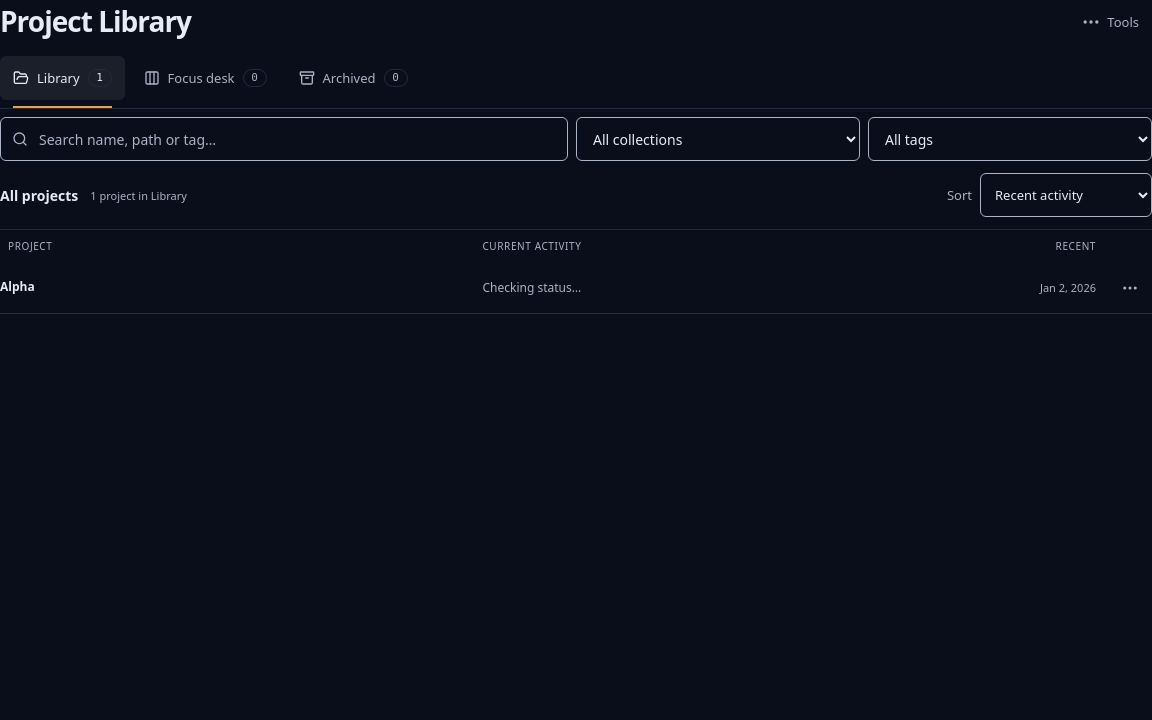
Contextual project authoring › creates and selects a collection beside an intact draft, with creation failures retryable
Click the button named "Details and organization for Alpha" at (1130, 288), box [1108,266,1151,310]
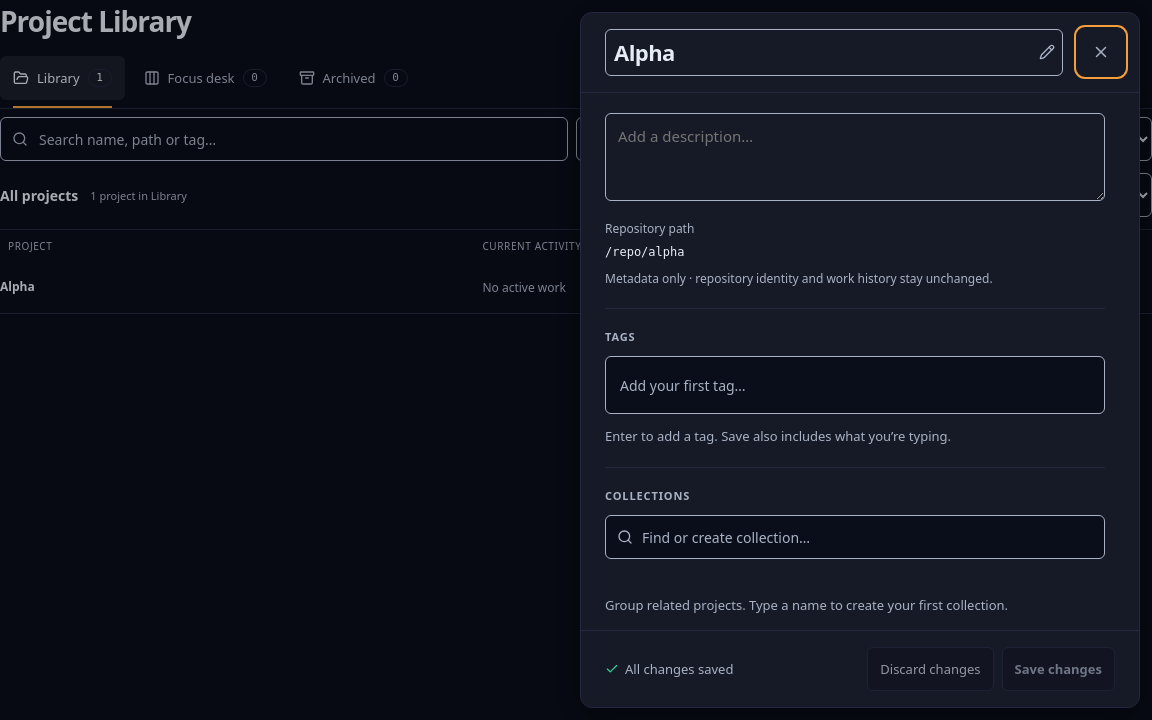
Type "Keep this draft" into the text box labelled "description" at (855, 157), box [605,113,1105,201]
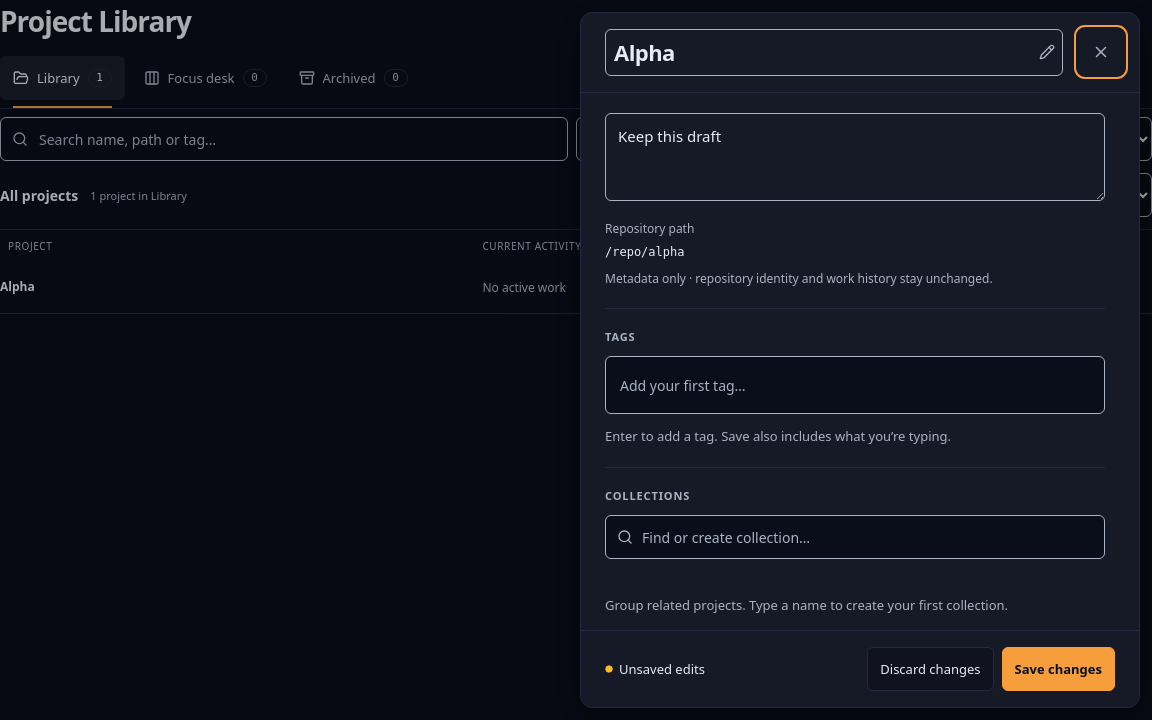
Type "Clients" into the search field labelled "Find or create collection" at (855, 537), box [605,515,1105,559]
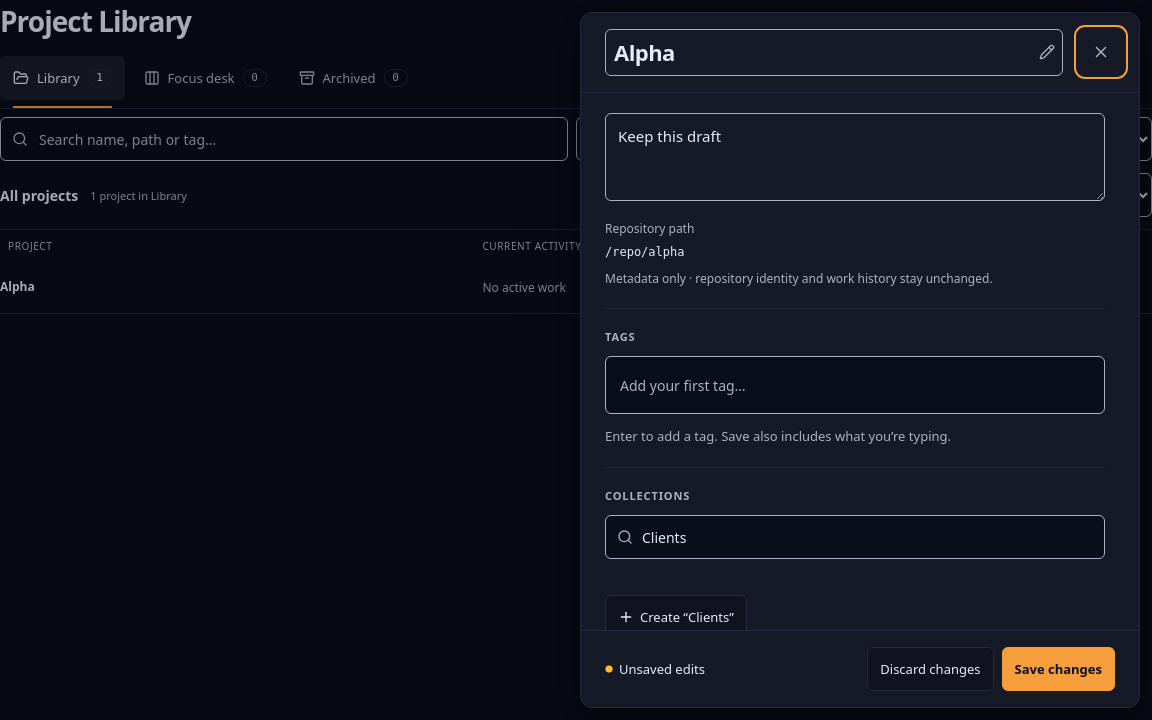
Click the button with aria-label "Create collection Clients" at (676, 617), box [605,595,747,639]
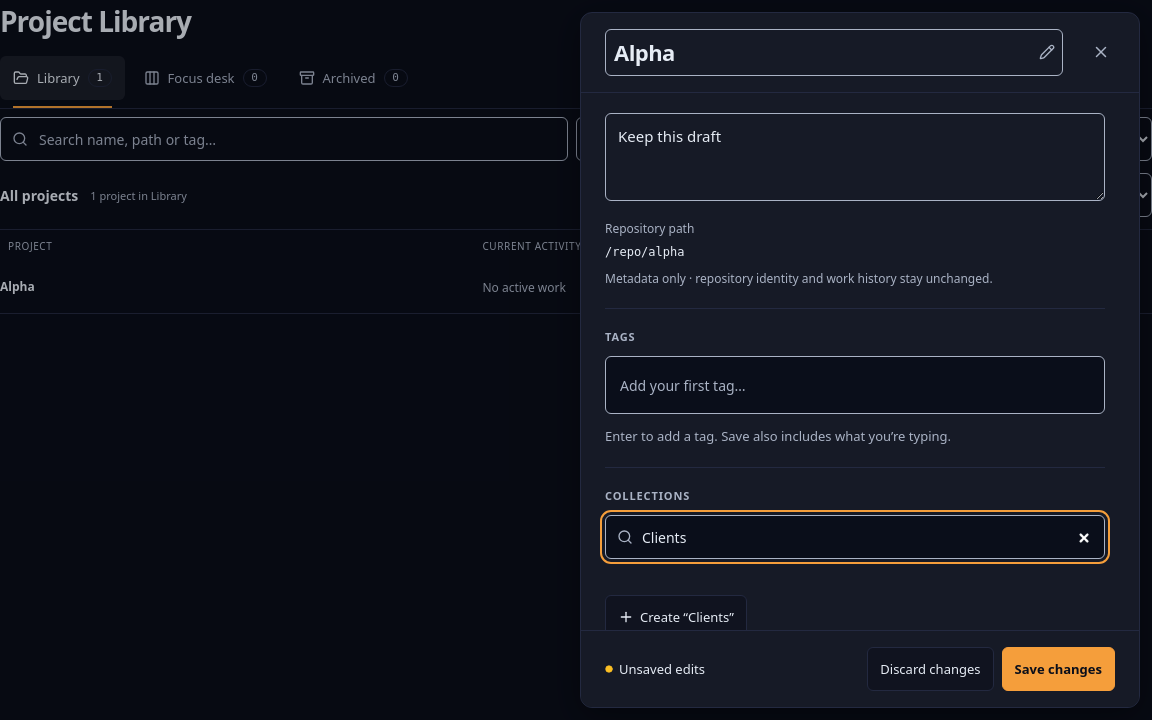
Click the button with aria-label "Create collection Clients" at (676, 617), box [605,595,747,639]
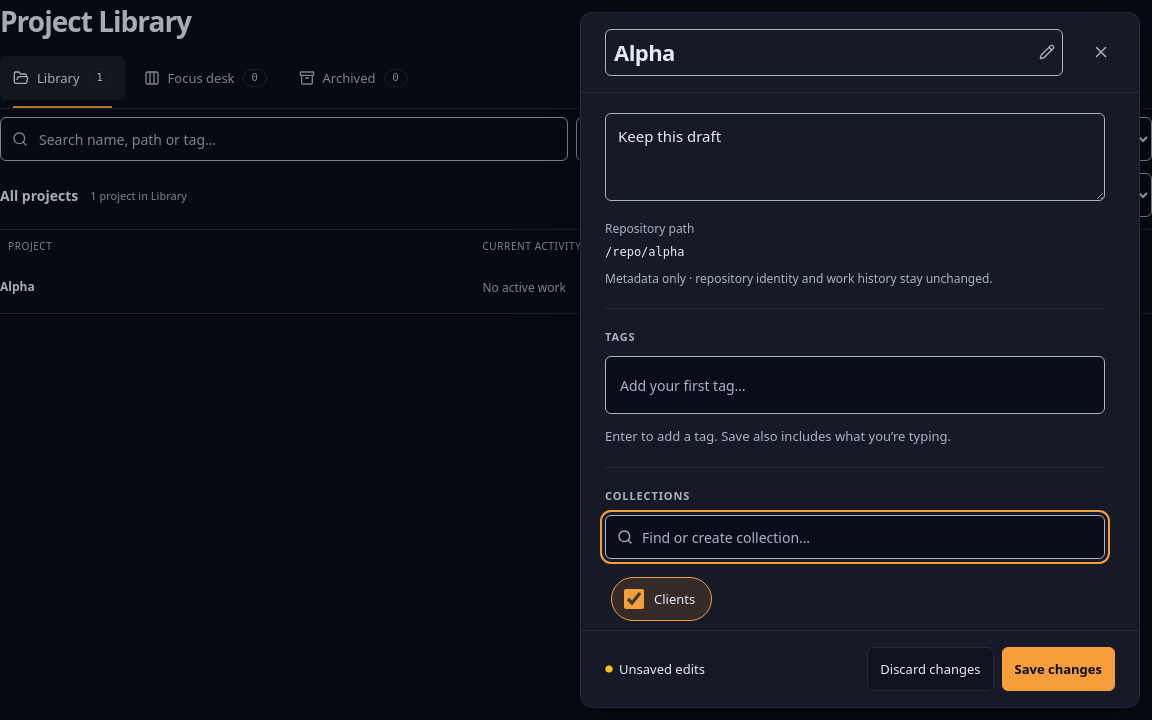
Expected: the checkbox labelled "Clients" is checked, [624,589,644,609]
Click the button "Save changes" at (1058, 669), box [1002,647,1115,691]
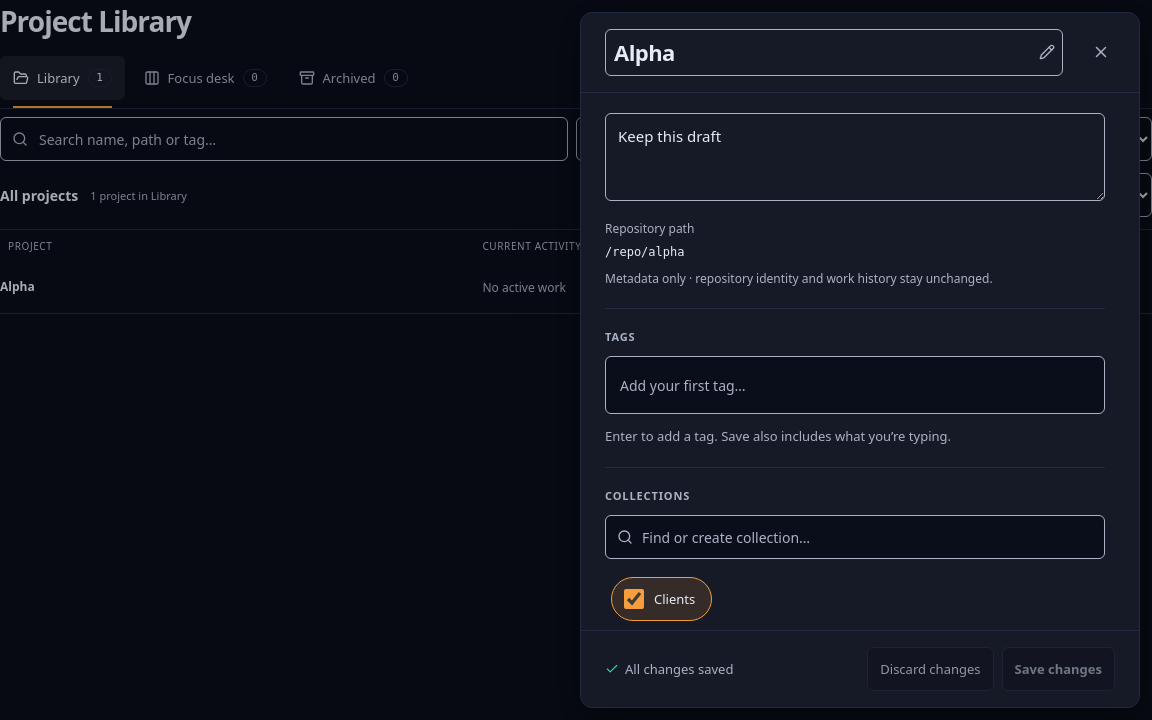
Expected: the text "All changes saved" is shown, [605,660,733,678]
